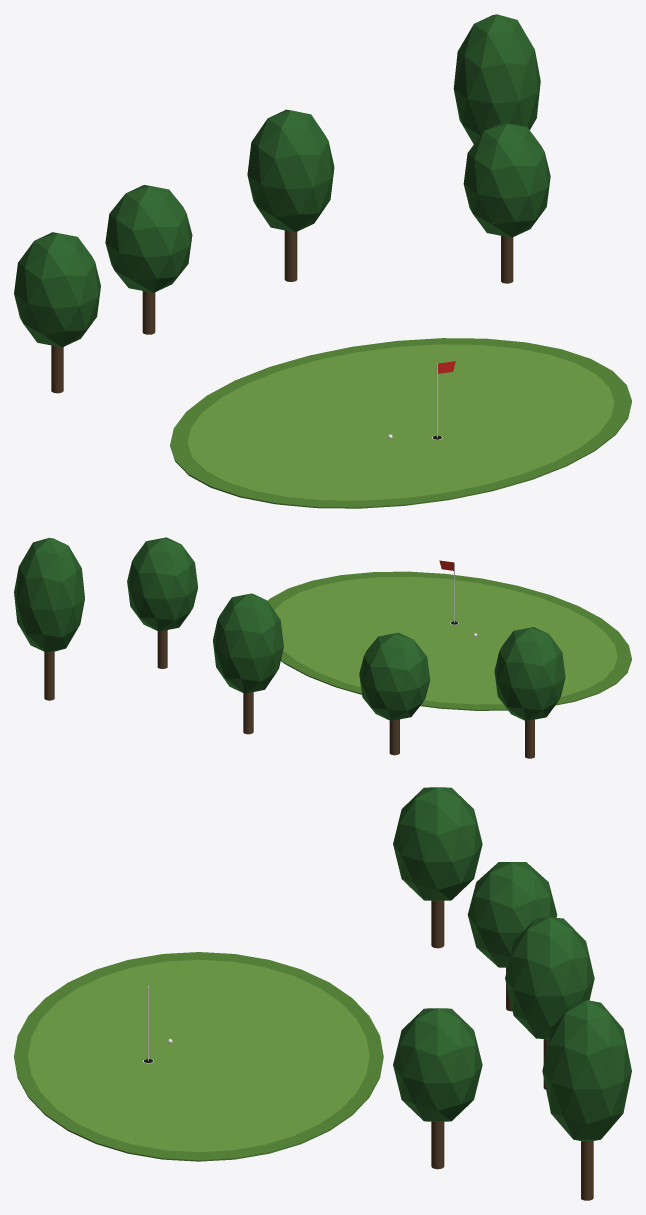
File: caddybot-putting-green-v1.glb
The picture shows the model from 3 angles, top to bottom: view 1: azimuth 30°, elevation 25°; view 2: azimuth 150°, elevation 25°; view 3: azimuth 270°, elevation 25°; orthographic projection. The views are drawn at different scales.
Visible parts, largest first — view 1: Putting surface.001, Putting green fringe.001, Course tree.009, Course tree.007, Course tree.005, Course tree.008, Course tree.006, Tree trunk.007; view 2: Putting surface.001, Course tree.009, Course tree.007, Course tree.005, Course tree.008, Putting green fringe.001, Course tree.006, Tree trunk.009, Tree trunk.007, Tree trunk.008, Tree trunk.006, Tree trunk.005; view 3: Putting surface.001, Putting green fringe.001, Course tree.009, Course tree.005, Course tree.008, Course tree.007, Course tree.006, Tree trunk.009, Tree trunk.005, Tree trunk.008.
Boxes of the visible parts, <box> form: Putting surface.001: <box>187,344,614,500</box>; Putting green fringe.001: <box>170,338,631,508</box>; Course tree.009: <box>453,14,540,144</box>; Course tree.007: <box>247,109,334,232</box>; Course tree.005: <box>14,232,100,347</box>; Course tree.008: <box>463,122,550,237</box>; Course tree.006: <box>105,185,192,292</box>; Tree trunk.007: <box>284,230,297,281</box>; Putting surface.001: <box>274,576,617,704</box>; Course tree.009: <box>14,537,84,652</box>; Course tree.007: <box>213,593,283,693</box>; Course tree.005: <box>494,627,565,721</box>; Course tree.008: <box>127,537,198,631</box>; Putting green fringe.001: <box>268,571,631,710</box>; Course tree.006: <box>359,632,430,720</box>; Tree trunk.009: <box>44,651,54,700</box>; Tree trunk.007: <box>243,692,253,734</box>; Tree trunk.008: <box>157,630,167,668</box>; Tree trunk.006: <box>389,719,399,755</box>; Tree trunk.005: <box>525,719,534,758</box>; Putting surface.001: <box>28,959,369,1152</box>; Putting green fringe.001: <box>14,952,383,1161</box>; Course tree.009: <box>542,1000,631,1141</box>; Course tree.005: <box>393,787,482,900</box>; Course tree.008: <box>393,1008,482,1121</box>; Course tree.007: <box>505,917,594,1039</box>; Course tree.006: <box>467,862,557,967</box>; Tree trunk.009: <box>581,1141,593,1200</box>; Tree trunk.005: <box>431,900,444,948</box>; Tree trunk.008: <box>431,1121,444,1169</box>.
Bounding box in the file's own units: 18.28 × 5.89 × 16.55.
